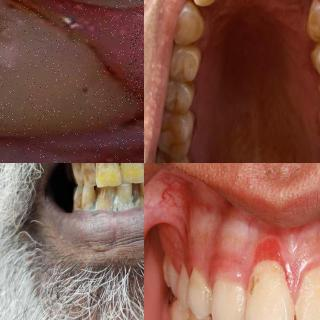Gum Swelling: (47, 2, 144, 151), (292, 252, 320, 303), (249, 241, 281, 273)
calculus: (82, 196, 100, 218), (96, 192, 113, 214), (128, 186, 144, 208), (114, 194, 133, 212)
cavities: (165, 286, 179, 313)
maligned: (128, 174, 144, 204), (92, 186, 101, 210)
plaque: (247, 256, 295, 320), (298, 262, 320, 320), (188, 267, 212, 315), (160, 255, 176, 287)
stains: (72, 189, 84, 211)
